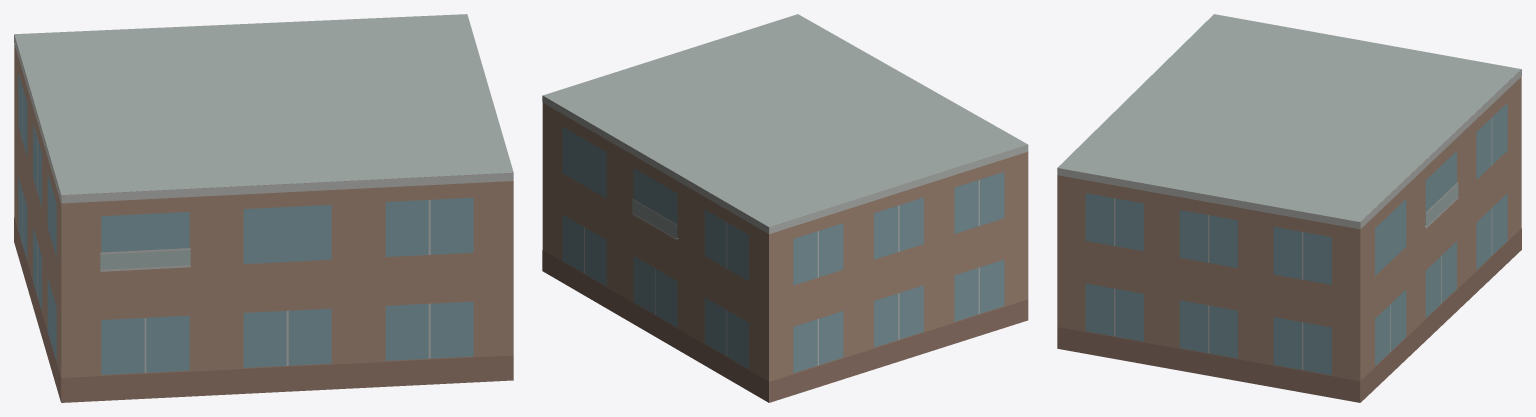
File: survey-upis-32656830.glb
The picture shows the model from 3 angles, left to right: view 1: azimuth 30°, elevation 25°; view 2: azimuth 150°, elevation 25°; view 3: azimuth 270°, elevation 25°; orthographic projection. The views are drawn at different scales.
Visible parts, largest first — view 1: survey-upis-32656830.tmp; view 2: survey-upis-32656830.tmp; view 3: survey-upis-32656830.tmp.
Part boxes in pixels (box(x1,y1,x2,y2)): survey-upis-32656830.tmp: box(14, 14, 513, 402); survey-upis-32656830.tmp: box(542, 14, 1028, 402); survey-upis-32656830.tmp: box(1057, 14, 1521, 402).
Size of the model in its own units: 15.08 by 6.1 by 14.22.
